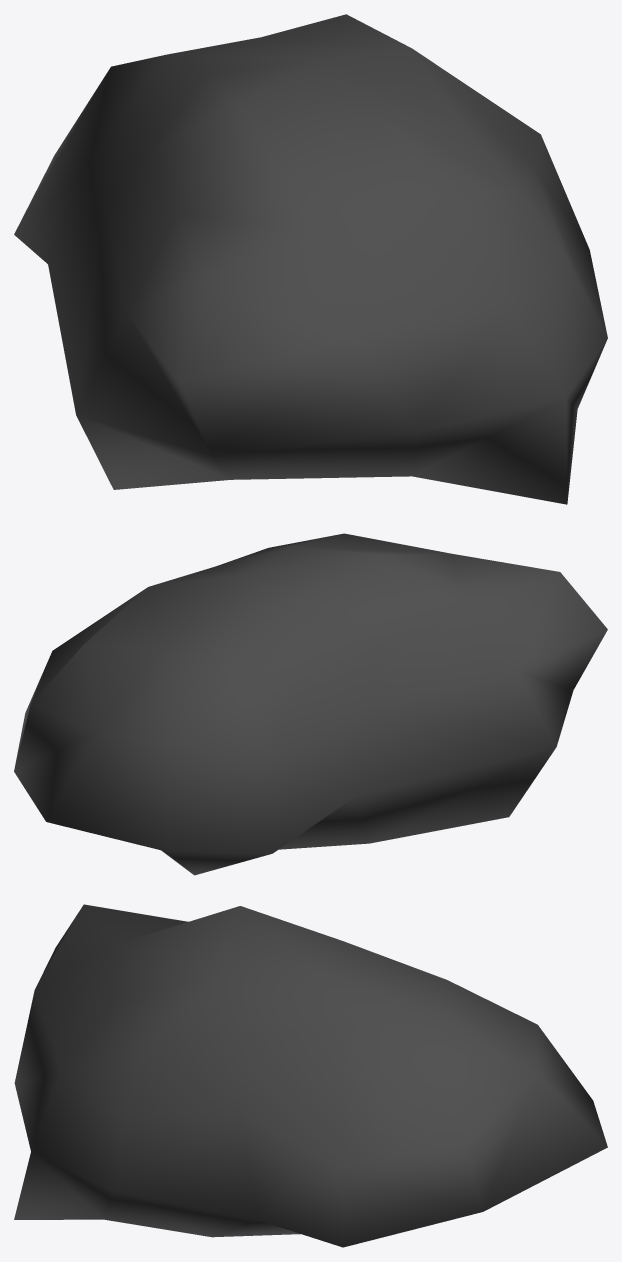
File: Rock.dae
The picture shows the model from 3 angles, top to bottom: view 1: azimuth 30°, elevation 25°; view 2: azimuth 150°, elevation 25°; view 3: azimuth 270°, elevation 25°; orthographic projection. The views are drawn at different scales.
Parts seen in each view (by area): view 1: Cube; view 2: Cube; view 3: Cube.
Boxes of the visible parts, <box> form: Cube: <box>14,14,607,504</box>; Cube: <box>14,533,607,875</box>; Cube: <box>14,904,607,1247</box>.
Size of the model in its own units: 3.44 by 3.9 by 1.84.
Materials: 1 (1 with a texture image).
